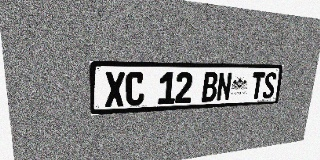1: (158, 72, 176, 104)
2: (175, 72, 193, 104)
B: (201, 72, 218, 102)
C: (125, 72, 145, 106)
N: (216, 72, 232, 101)
S: (262, 72, 277, 99)
T: (250, 72, 265, 99)
X: (105, 72, 125, 107)
